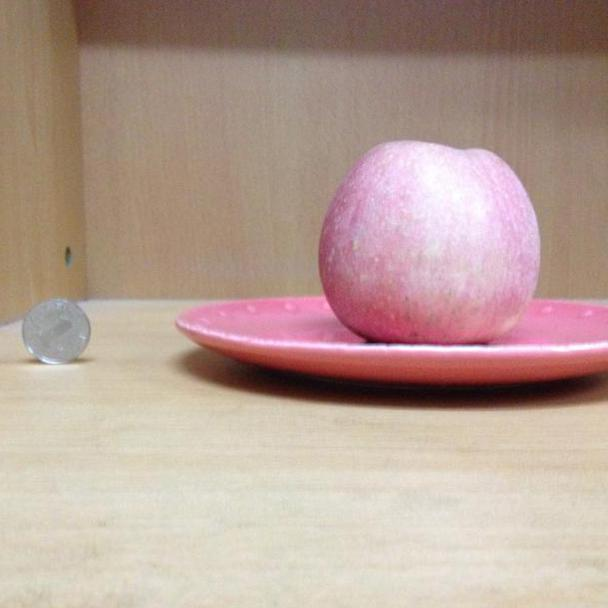apple: (316, 140, 539, 342)
